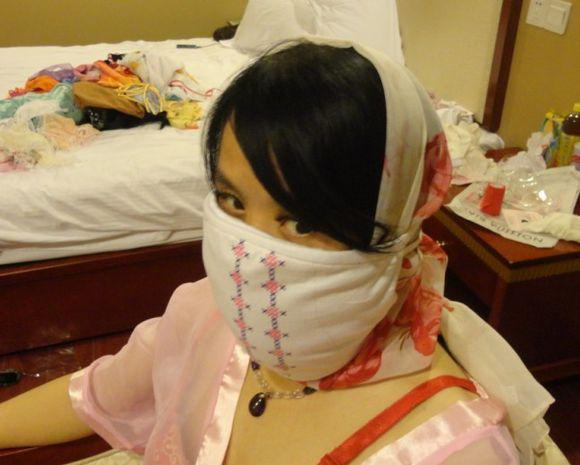OK: (206, 167, 389, 350)
